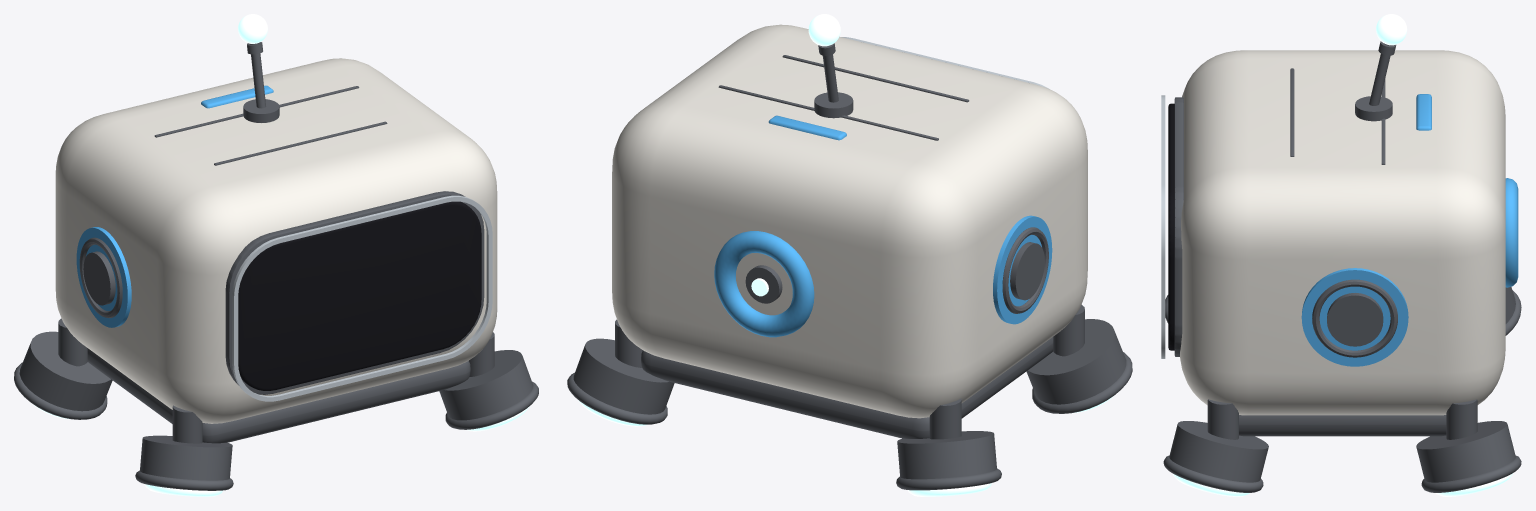
Rendered from drone.glb.
The picture shows the model from 3 angles, left to right: view 1: azimuth 30°, elevation 25°; view 2: azimuth 150°, elevation 25°; view 3: azimuth 270°, elevation 25°; orthographic projection. The views are drawn at different scales.
Visible parts, largest first — view 1: Body, FaceScreen, HoverPod_BR, HoverPod_FL, FaceRim, HoverPod_FR, Antenna; view 2: Body, TetherSocket, HoverPod_FR, HoverPod_BL, HoverPod_BR, Antenna; view 3: Body, HoverPod_BL, HoverPod_FL, FaceScreen, Antenna, TetherSocket, FaceRim, HoverPod_BR.
Part boxes in pixels (left/top/right/bottom): Body: left=55, top=58, right=497, bottom=443; FaceScreen: left=238, top=201, right=481, bottom=390; HoverPod_BR: left=14, top=331, right=112, bottom=419; HoverPod_FL: left=439, top=350, right=538, bottom=431; FaceRim: left=232, top=195, right=492, bottom=401; HoverPod_FR: left=135, top=435, right=233, bottom=496; Antenna: left=238, top=14, right=267, bottom=108; Body: left=612, top=24, right=1087, bottom=439; TetherSocket: left=714, top=231, right=814, bottom=337; HoverPod_FR: left=1026, top=319, right=1132, bottom=413; HoverPod_BL: left=567, top=338, right=674, bottom=426; HoverPod_BR: left=896, top=431, right=1001, bottom=496; Antenna: left=808, top=14, right=840, bottom=102; Body: left=1174, top=50, right=1505, bottom=439; HoverPod_BL: left=1416, top=421, right=1521, bottom=496; HoverPod_FL: left=1163, top=421, right=1268, bottom=496; FaceScreen: left=1168, top=103, right=1174, bottom=350; Antenna: left=1369, top=14, right=1407, bottom=105; TetherSocket: left=1505, top=178, right=1518, bottom=287; FaceRim: left=1161, top=95, right=1165, bottom=358; HoverPod_BR: left=1505, top=287, right=1521, bottom=335.
Size of the model in its own units: 1.5 by 1.41 by 1.15.
